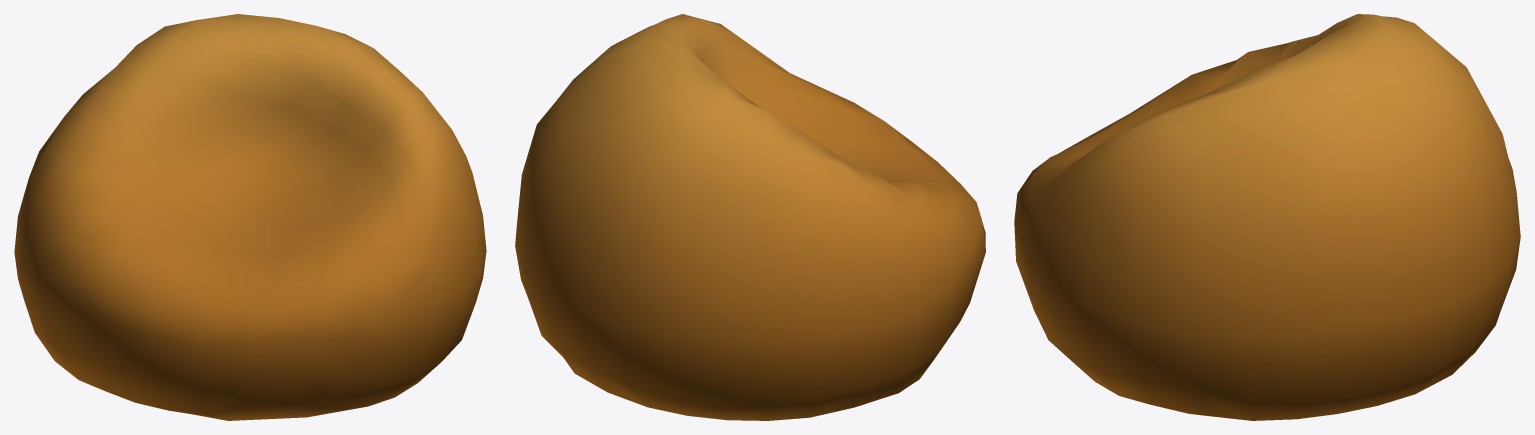
The model's file is beanbag1.fbx.
3 views of the same model, side by side, from view 1: azimuth 30°, elevation 25°; view 2: azimuth 150°, elevation 25°; view 3: azimuth 270°, elevation 25° (orthographic). The views are drawn at different scales.
Parts seen in each view (by area): view 1: beanbag1; view 2: beanbag1; view 3: beanbag1.
Part boxes in pixels (box(x1,y1,x2,y2)): beanbag1: box(14, 14, 486, 420); beanbag1: box(515, 14, 985, 420); beanbag1: box(1014, 14, 1520, 420).
Bounding box in the file's own units: 3.88 × 2.74 × 3.84.
